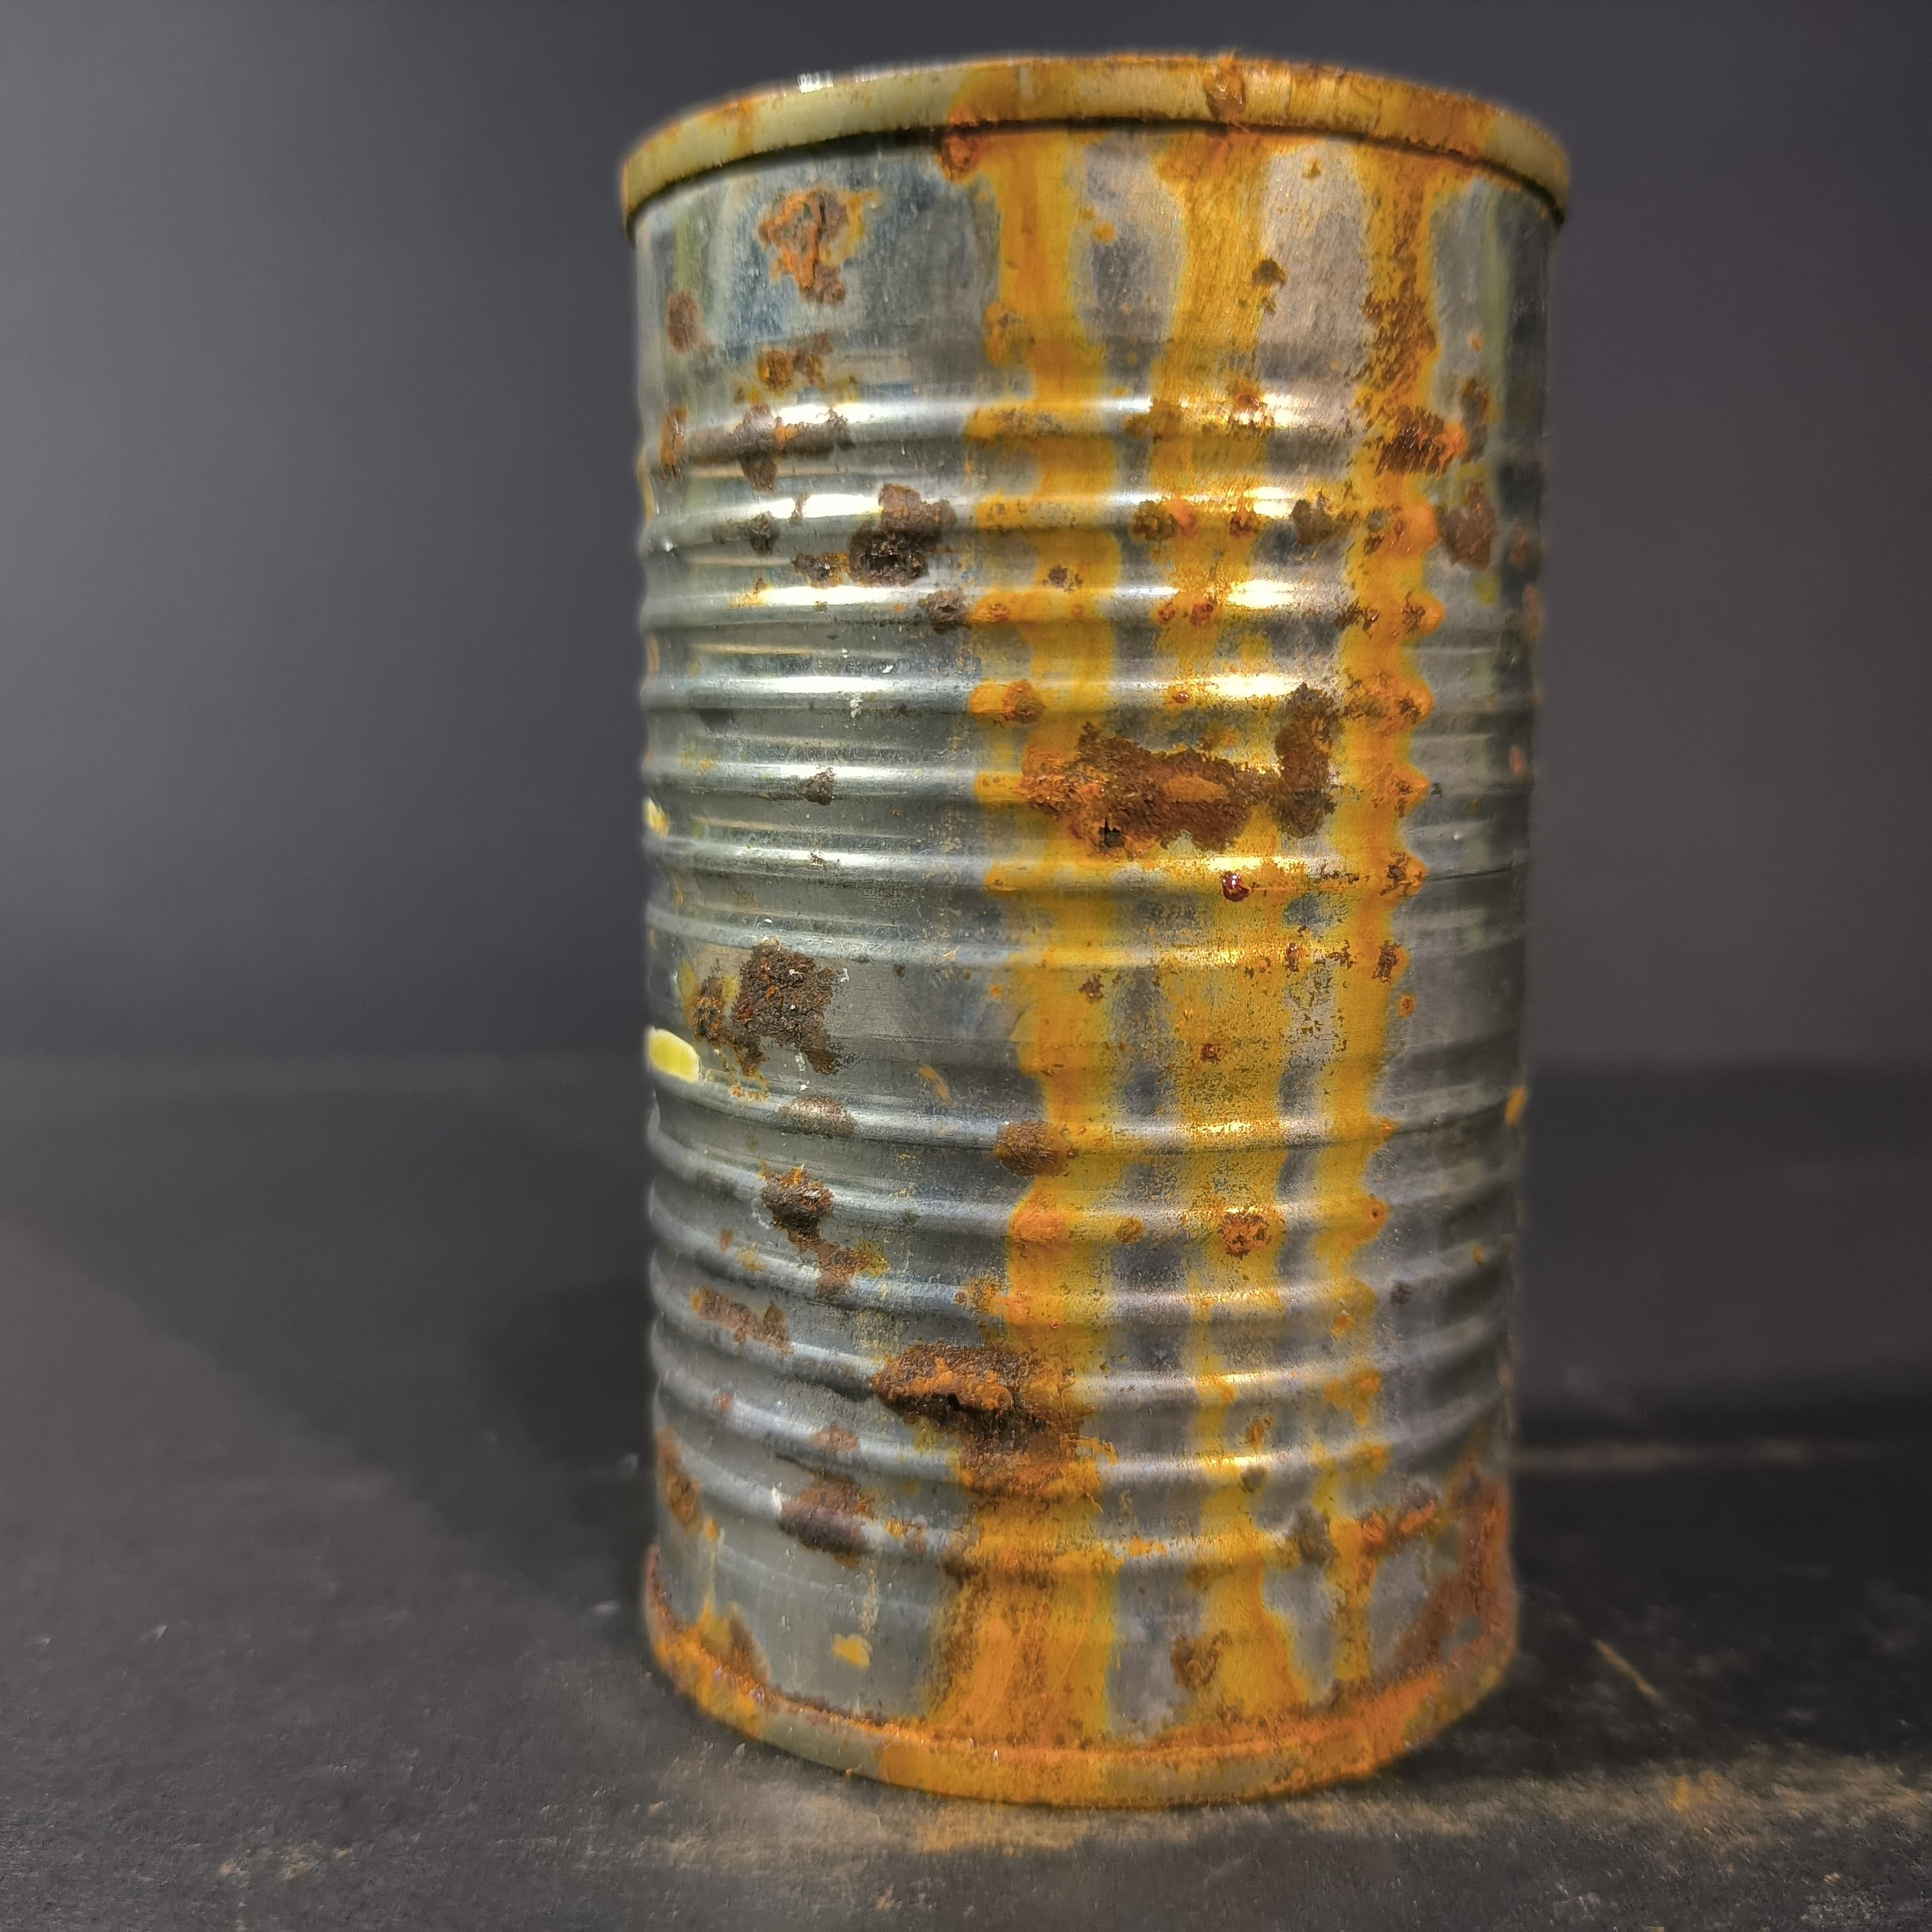Rusted: (604, 28, 1558, 1814)
